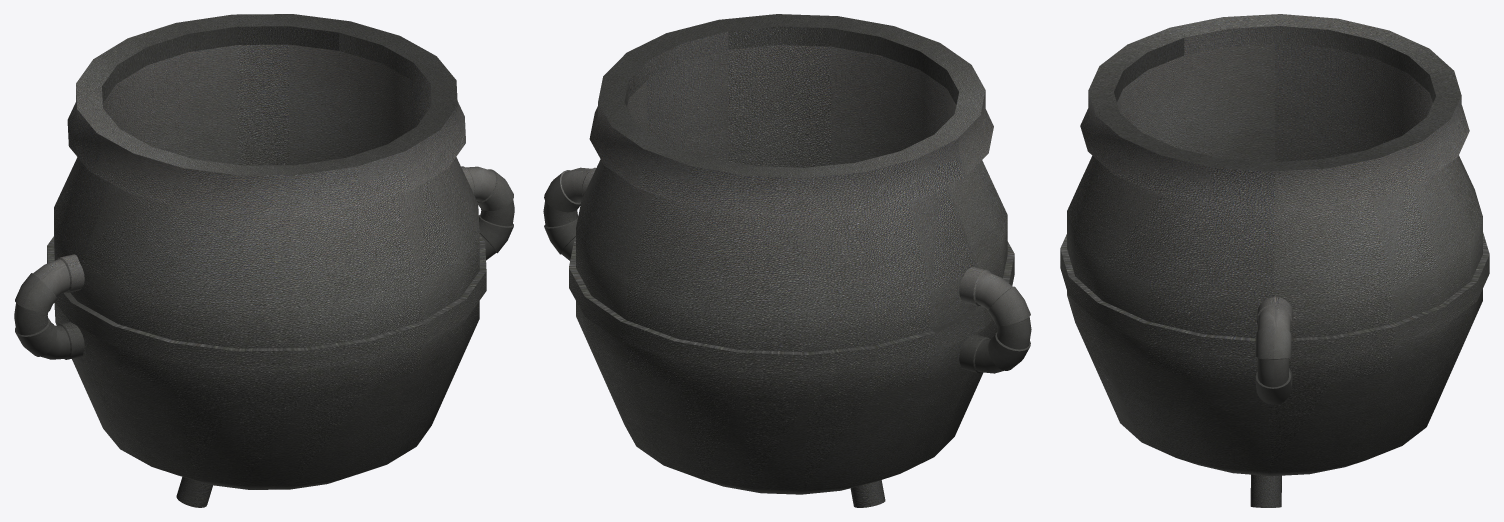
The model's file is Cauldron.fbx.
The picture shows the model from 3 angles, left to right: view 1: azimuth 30°, elevation 25°; view 2: azimuth 150°, elevation 25°; view 3: azimuth 270°, elevation 25°; orthographic projection. The views are drawn at different scales.
Visible parts, largest first — view 1: Cauldron; view 2: Cauldron; view 3: Cauldron.
Boxes of the visible parts, x1,y1,x2,y2 form: Cauldron: (14, 14, 514, 507); Cauldron: (543, 14, 1031, 507); Cauldron: (1060, 14, 1489, 507).
Size of the model in its own units: 3.39 by 2.59 by 2.66.
1 material, 1 textured.
